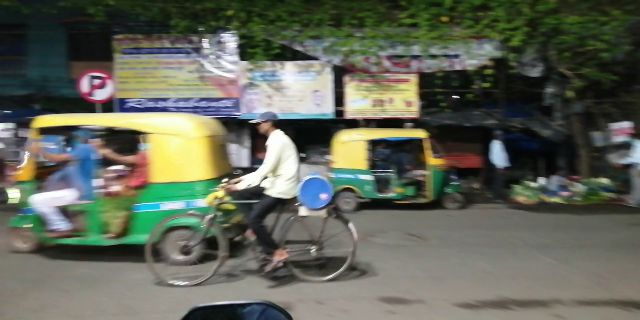Autorickshaw: (13, 113, 228, 260), (330, 120, 461, 211)
Cycle: (144, 117, 363, 290)
